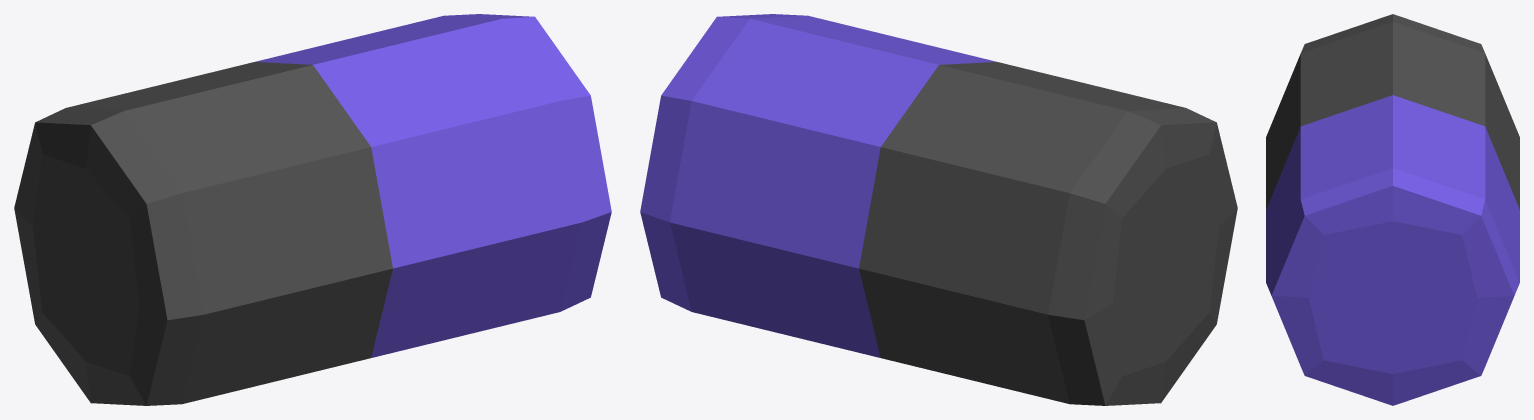
Rendered from Motor.glb.
3 views of the same model, side by side, from view 1: azimuth 30°, elevation 25°; view 2: azimuth 150°, elevation 25°; view 3: azimuth 270°, elevation 25° (orthographic). The views are drawn at different scales.
Parts seen in each view (by area): view 1: Motor, Shaft; view 2: Motor, Shaft; view 3: Shaft, Motor.
Boxes of the visible parts, box(x1,y1,x2,y2) form: Motor: box(14, 62, 392, 405); Shaft: box(255, 14, 611, 357); Motor: box(859, 62, 1237, 405); Shaft: box(640, 14, 996, 357); Shaft: box(1266, 95, 1519, 405); Motor: box(1266, 14, 1519, 209).
Size of the model in its own units: 1 by 0.6111 by 0.6111.
